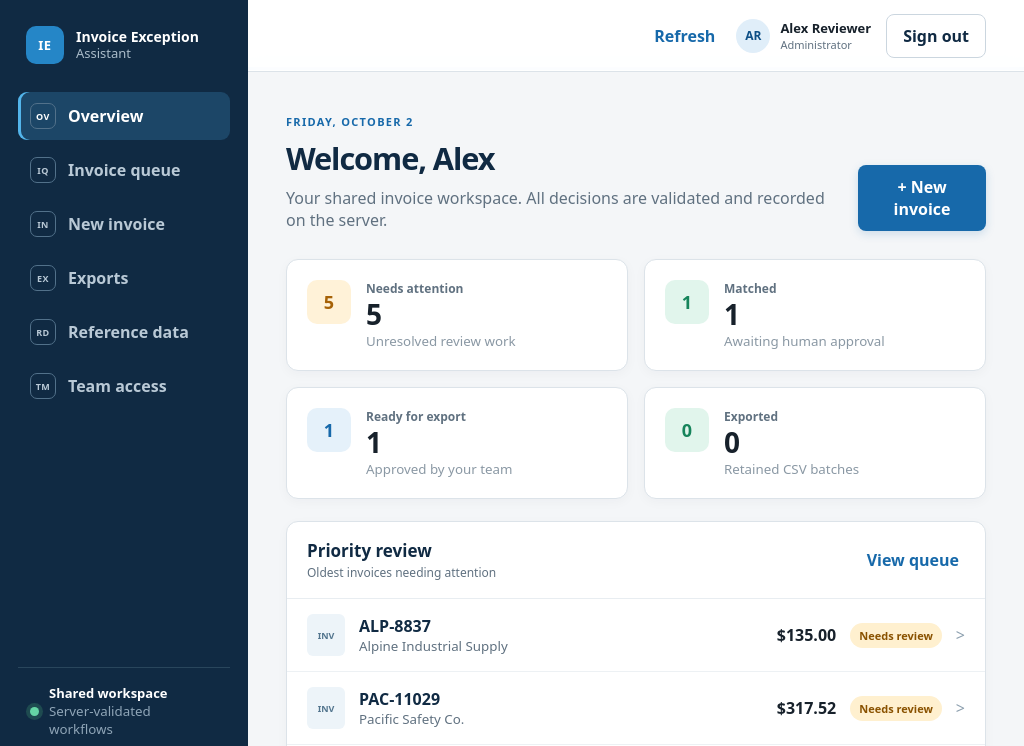
Test: authenticated application state › reports successful account changes and allows account navigation
The width and height of the screenshot is (1024, 746).
Click the button with aria-label "Your account" at (804, 36), box [733,16,874,56]
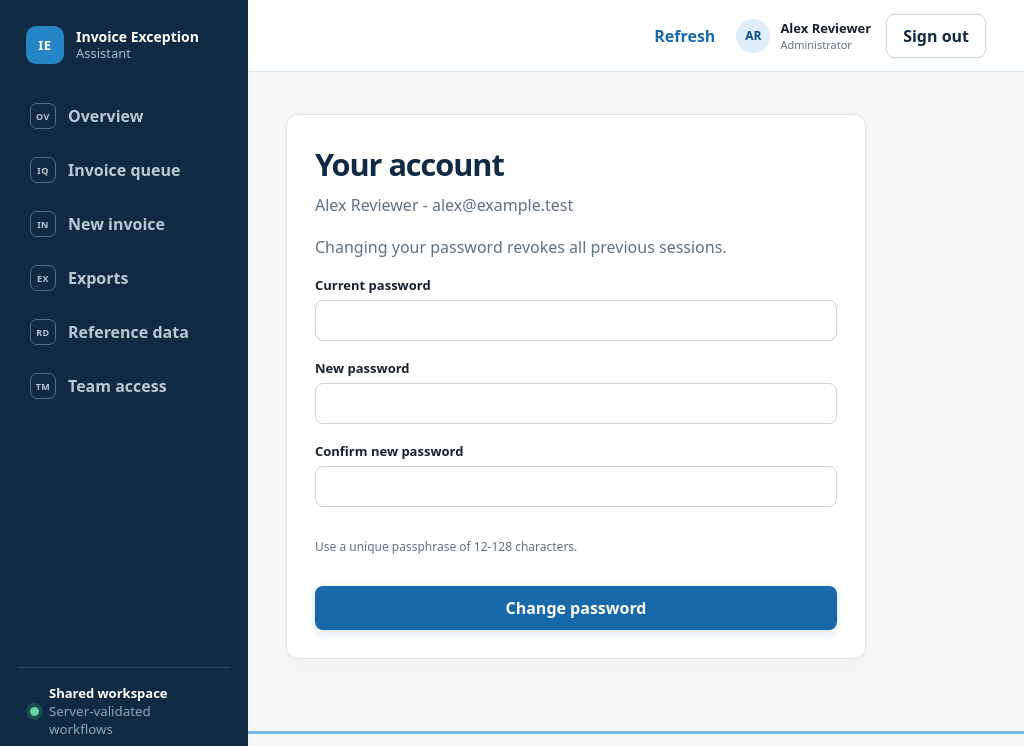
Type "old-password" into the password field labelled "Current password" at (576, 321), box [315,300,837,341]
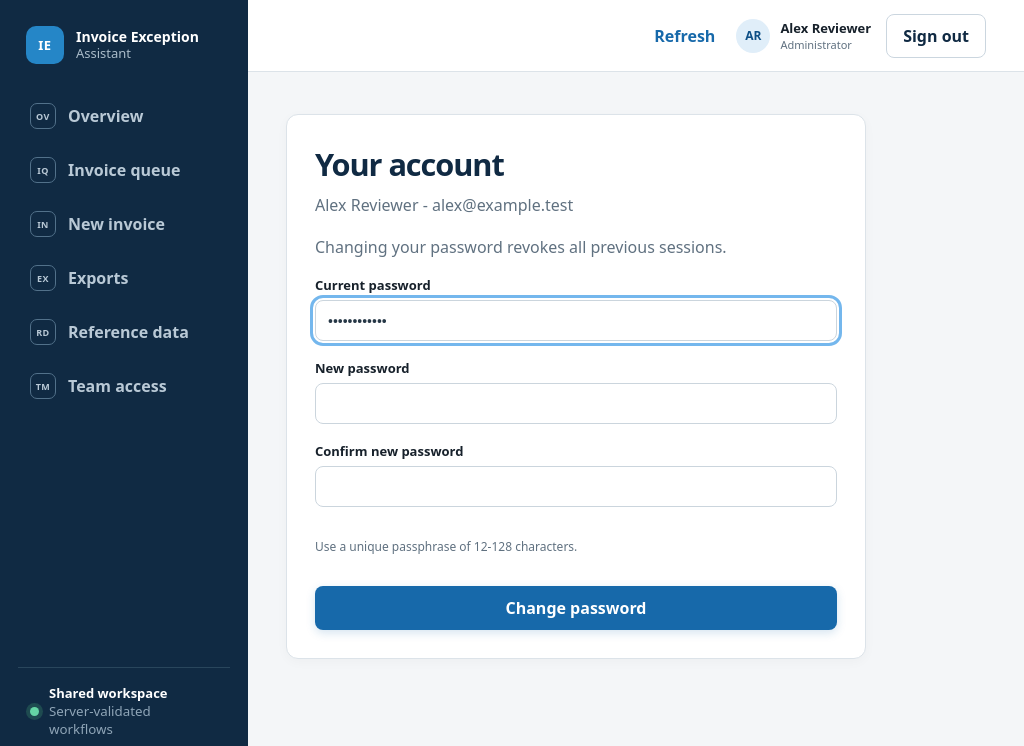
Type "new-private-password" into the password field labelled "New password" at (576, 404), box [315,383,837,424]
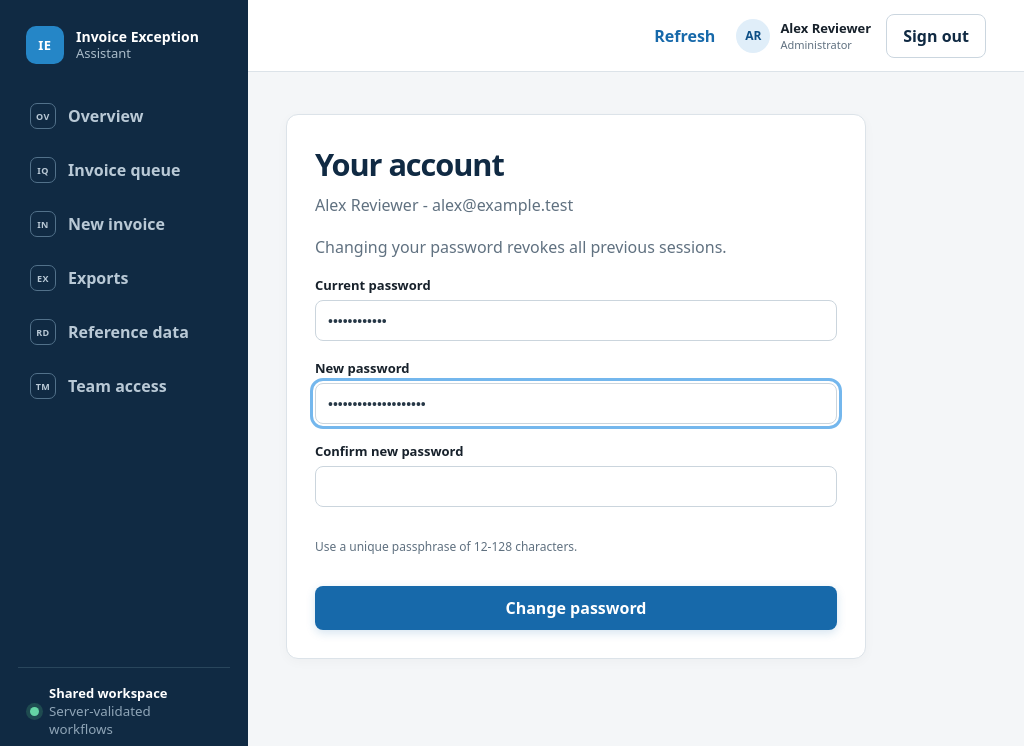
Type "new-private-password" into the password field labelled "Confirm new password" at (576, 487), box [315,466,837,507]
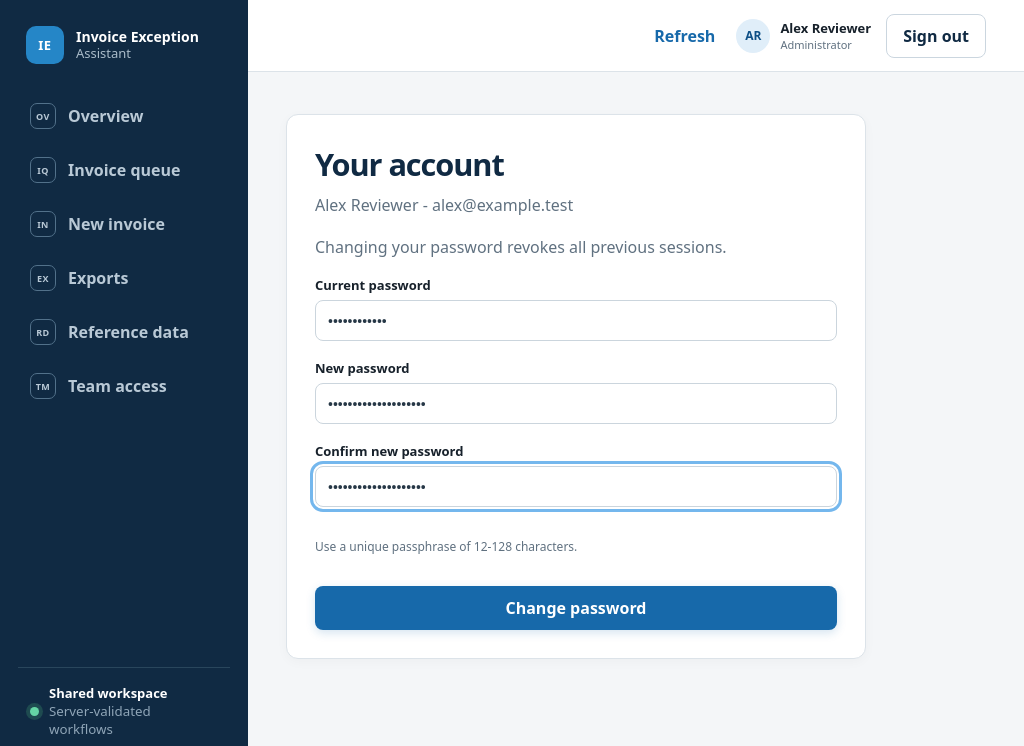
Click the button "Change password" at (576, 608), box [315,586,837,630]
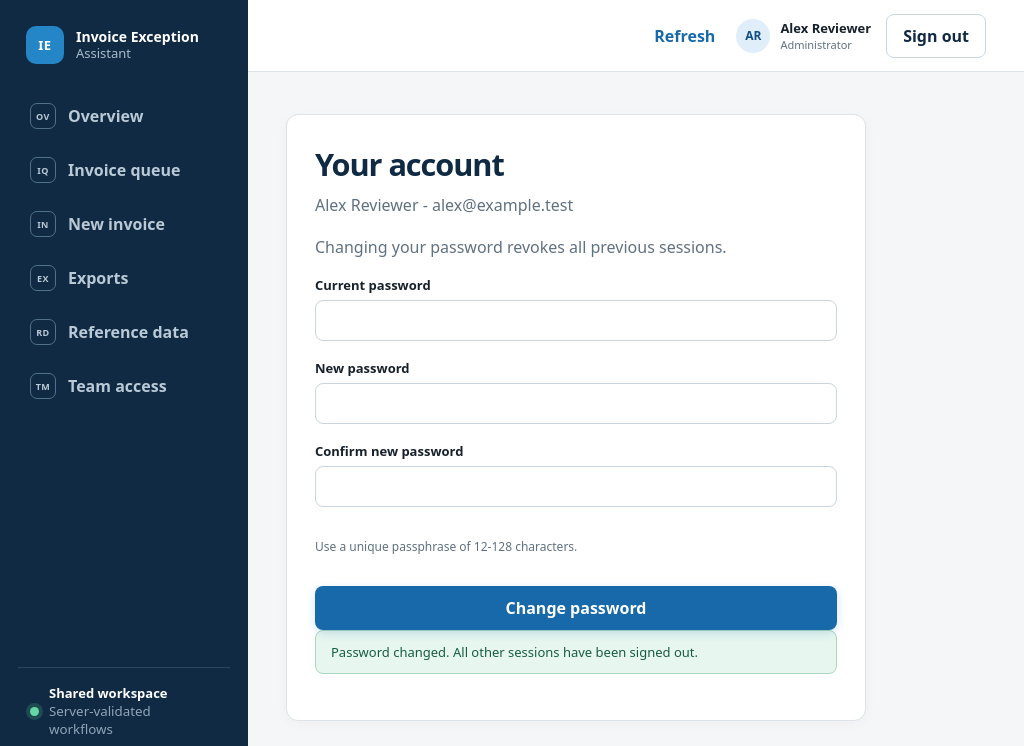
Now the message shows "Password changed", box [331,643,698,661]
Now the password field labelled "Current password" is empty, box [315,300,837,341]
